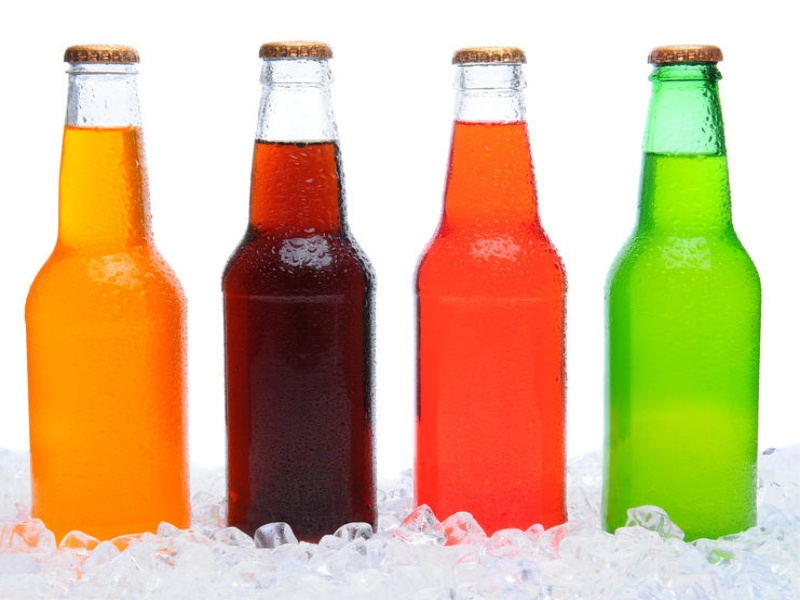Glass bottle: (197, 18, 401, 550), (379, 20, 573, 545), (13, 44, 207, 565), (587, 37, 778, 556)
